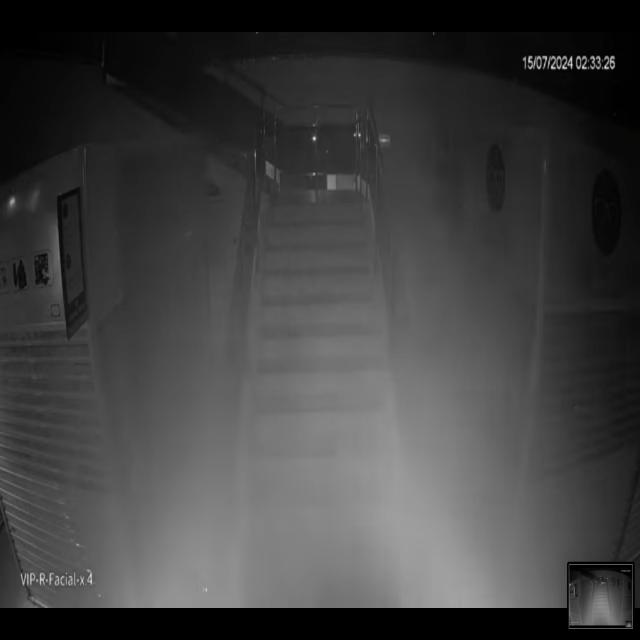Atencao: (114, 137, 550, 604)
